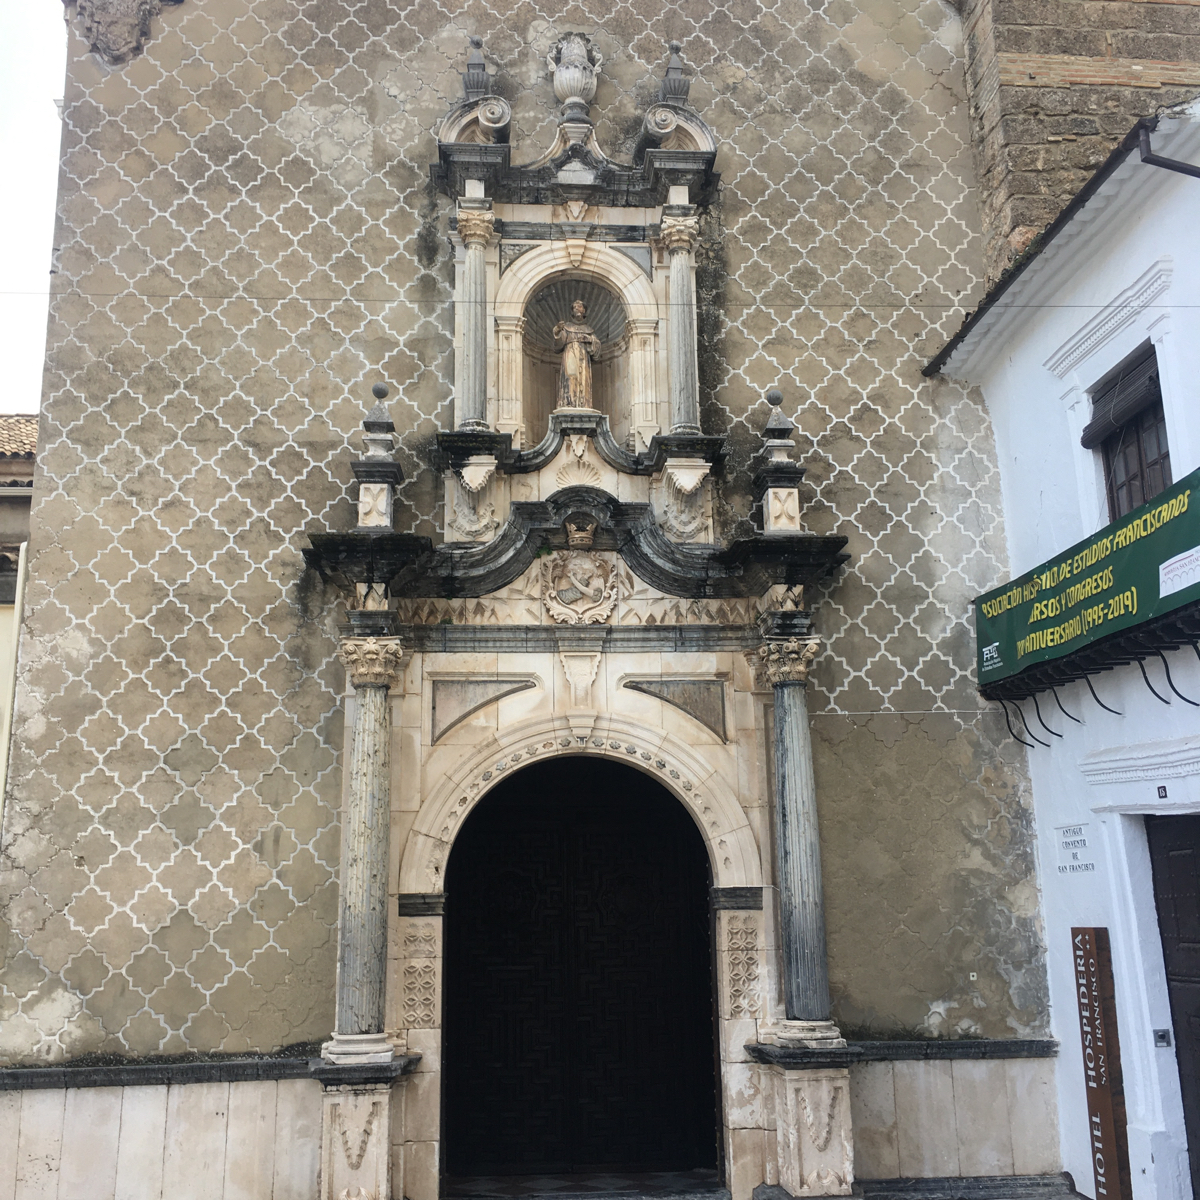arco-medio-punto: (429, 733, 738, 938), (499, 236, 648, 348)
fronton-partido: (433, 89, 726, 184)
